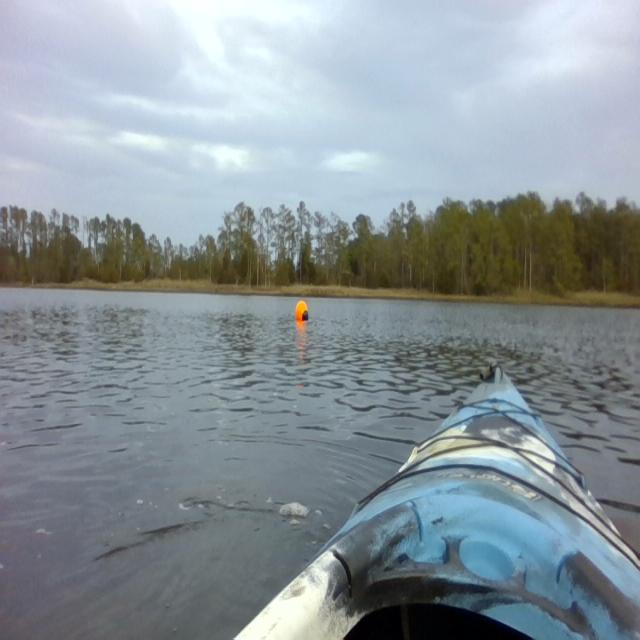Buoy: (294, 298, 310, 324)
